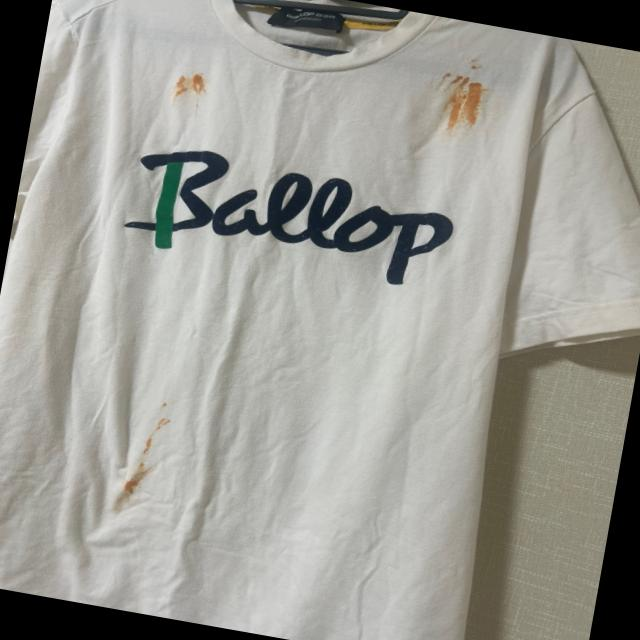stain: (424, 72, 493, 138), (122, 432, 162, 501), (172, 65, 216, 108), (147, 400, 179, 458), (465, 51, 491, 80)
